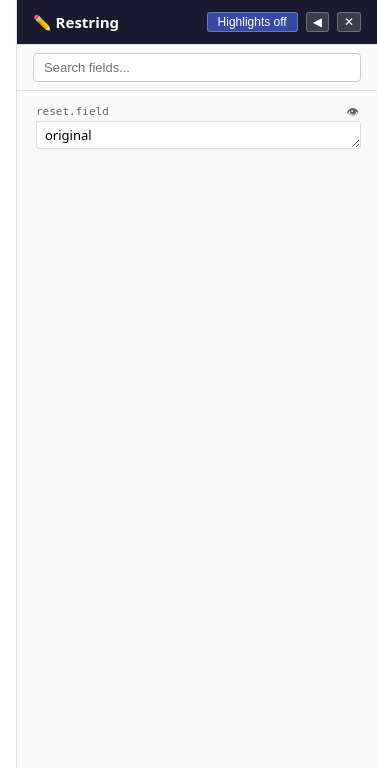
Test: RestringSidebar › per-field reset clears individual override
The width and height of the screenshot is (377, 768).
Replace the text in the text box named "Edit reset.field" with "changed" at (198, 135), box [36, 121, 361, 149]
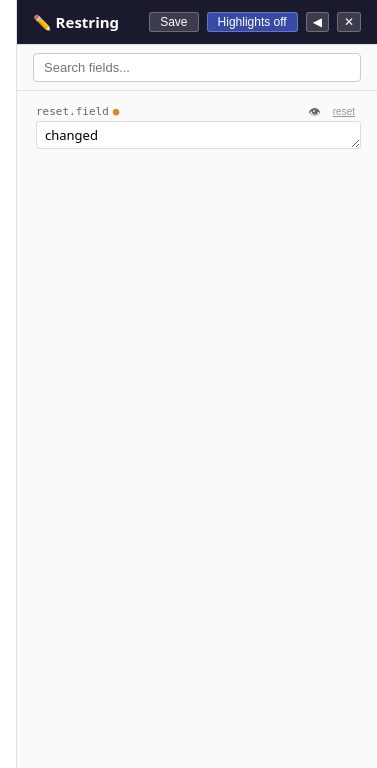
Click the button "reset".
click(344, 112)  # box [327, 105, 361, 118]
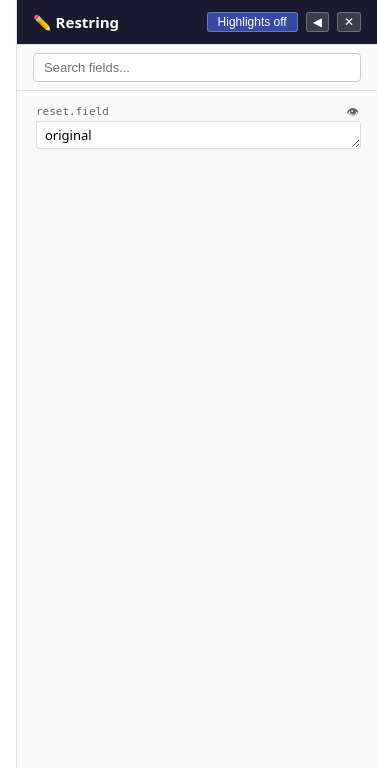
Result: the text box named "Edit reset.field" holds "original" at [36, 121, 361, 149]
